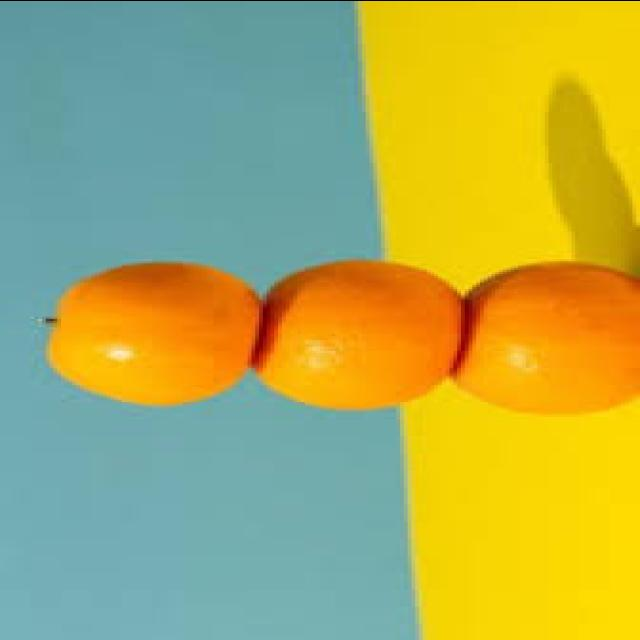orange: (46, 263, 260, 403)
